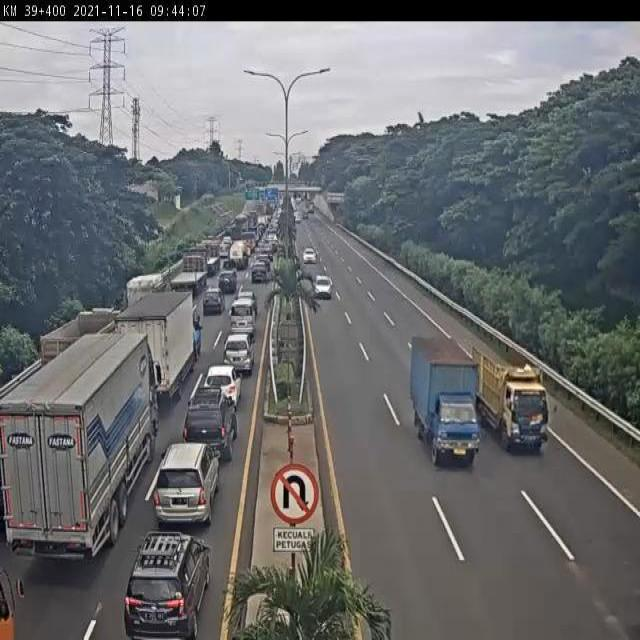car: (120, 530, 210, 640), (149, 440, 223, 532), (182, 387, 238, 461), (203, 357, 242, 408), (223, 329, 253, 376), (229, 298, 260, 342), (218, 263, 240, 297), (310, 272, 336, 299), (204, 286, 224, 318), (239, 287, 259, 309), (300, 246, 319, 266)
small truck: (471, 346, 556, 462)
truck-l-: (0, 331, 164, 565), (170, 249, 209, 295)
truck-m-: (409, 335, 482, 476), (117, 290, 205, 406), (38, 304, 126, 405)
